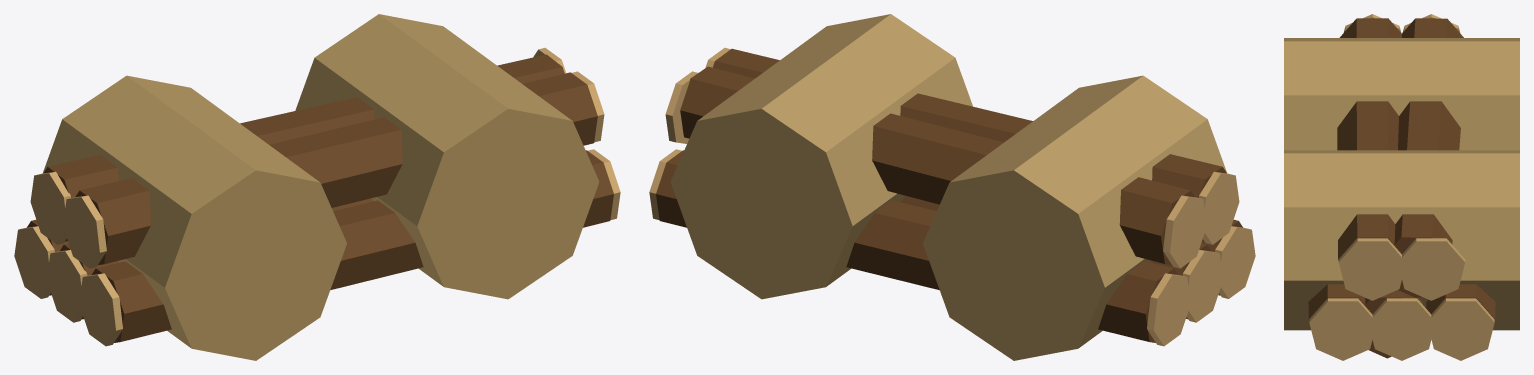
Rendered from Daily_Firewood.obj.
3 renders of one model, left to right at view 1: azimuth 30°, elevation 25°; view 2: azimuth 150°, elevation 25°; view 3: azimuth 270°, elevation 25°, orthographic. The views are drawn at different scales.
Parts seen in each view (by area): view 1: Daily_Firewood; view 2: Daily_Firewood; view 3: Daily_Firewood.
Boxes of the visible parts, box(x1,y1,x2,y2) form: Daily_Firewood: box(14, 14, 620, 360); Daily_Firewood: box(649, 14, 1255, 360); Daily_Firewood: box(1284, 14, 1519, 360).
Bounding box in the file's own units: 0.72 × 0.26 × 0.32.
